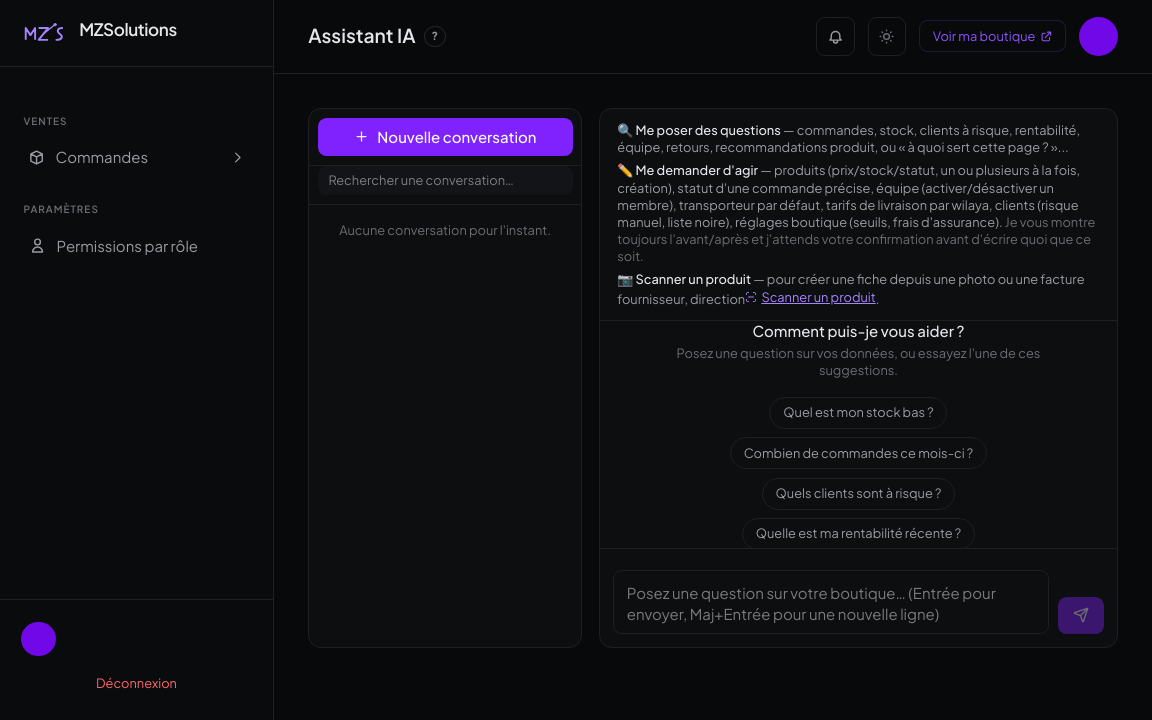
Test: AIAssistantPage › affiche une carte de proposition et confirme l'action au clic
The image size is (1152, 720).
(page scrolled)
Replace the text in the text box with placeholder "Posez une question" with "Baisse le prix du T-shirt à 1800" at point(831, 602), box top-left (613, 570), bottom-right (1050, 634)
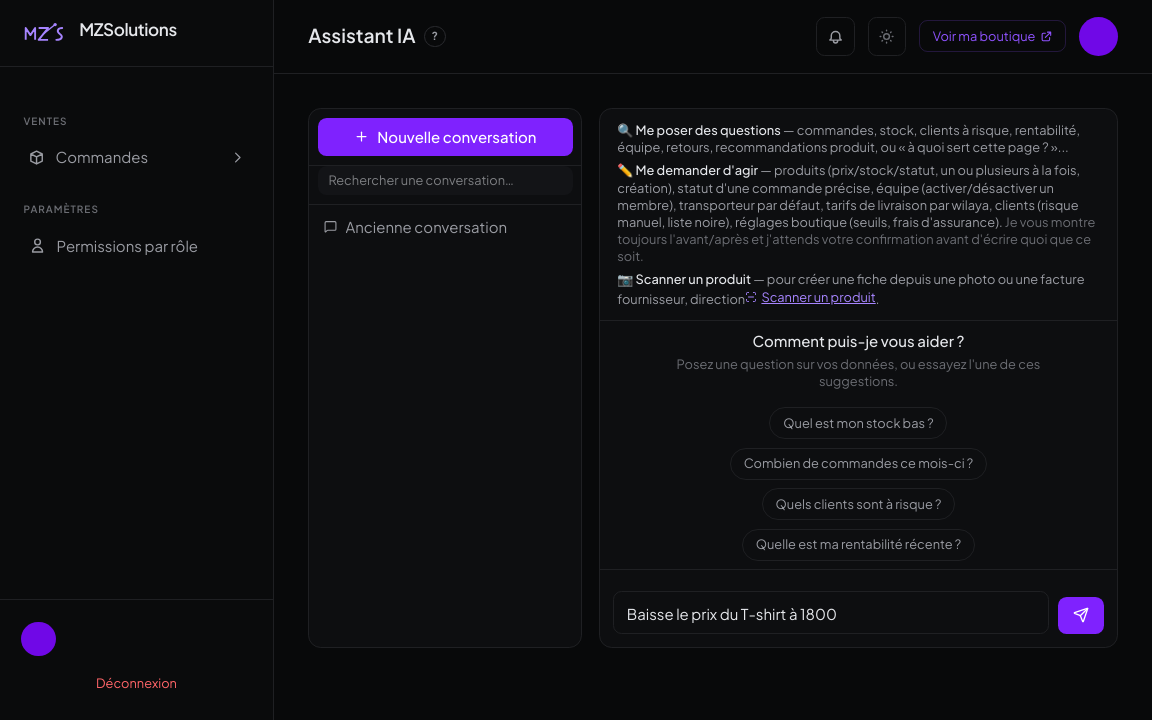
Click the button named "envoyer" at point(1081, 616), box top-left (1058, 597), bottom-right (1104, 634)
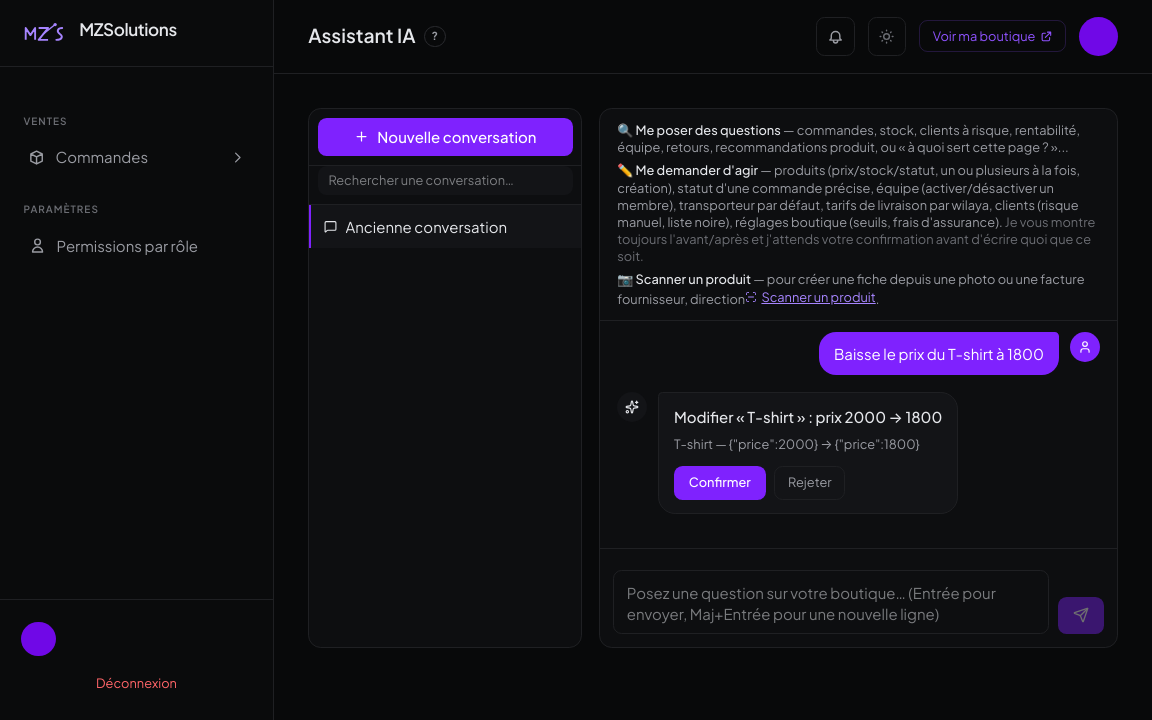
Expected: the text "Modifier « T-shirt » : prix 2000 → 1800" is shown, top-left (674, 406), bottom-right (942, 427)
Click the button "Confirmer" at point(720, 483), box top-left (674, 466), bottom-right (766, 500)
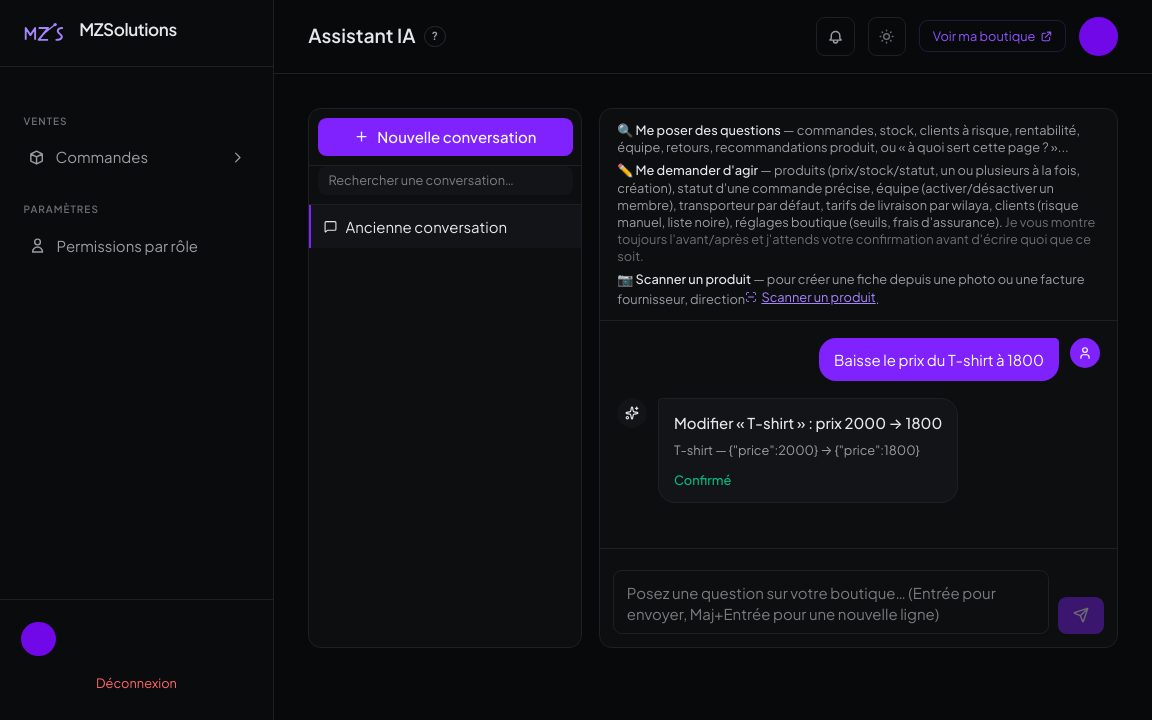
Expected: the text "Confirmé" is shown, top-left (674, 472), bottom-right (731, 488)
